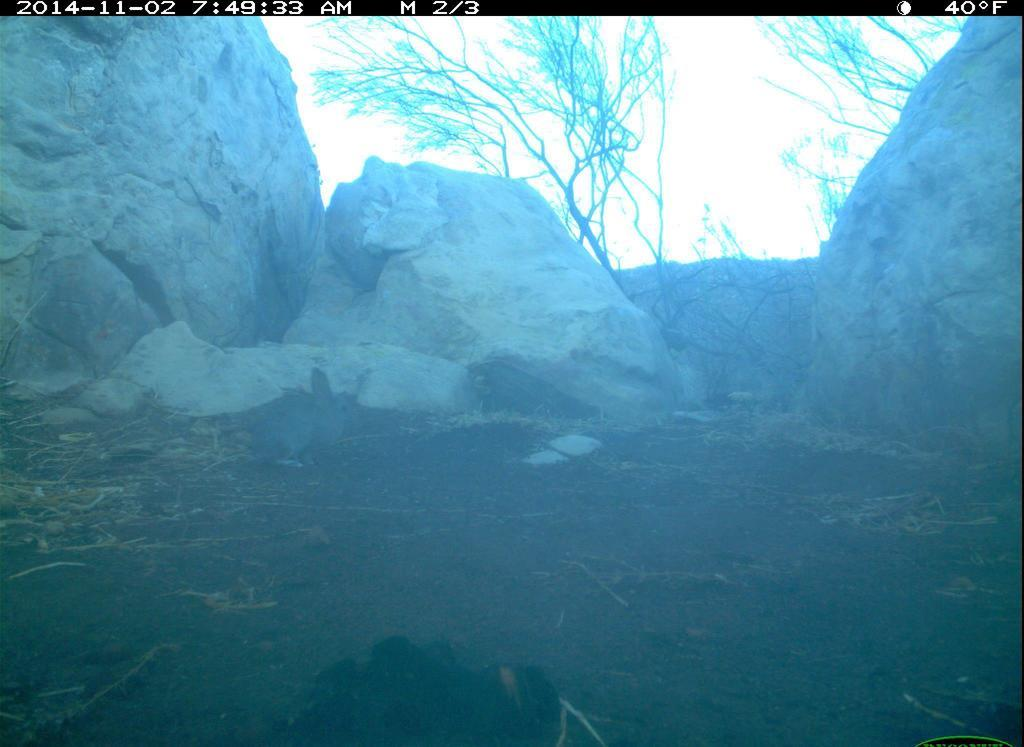rabbit: (218, 349, 393, 492)
